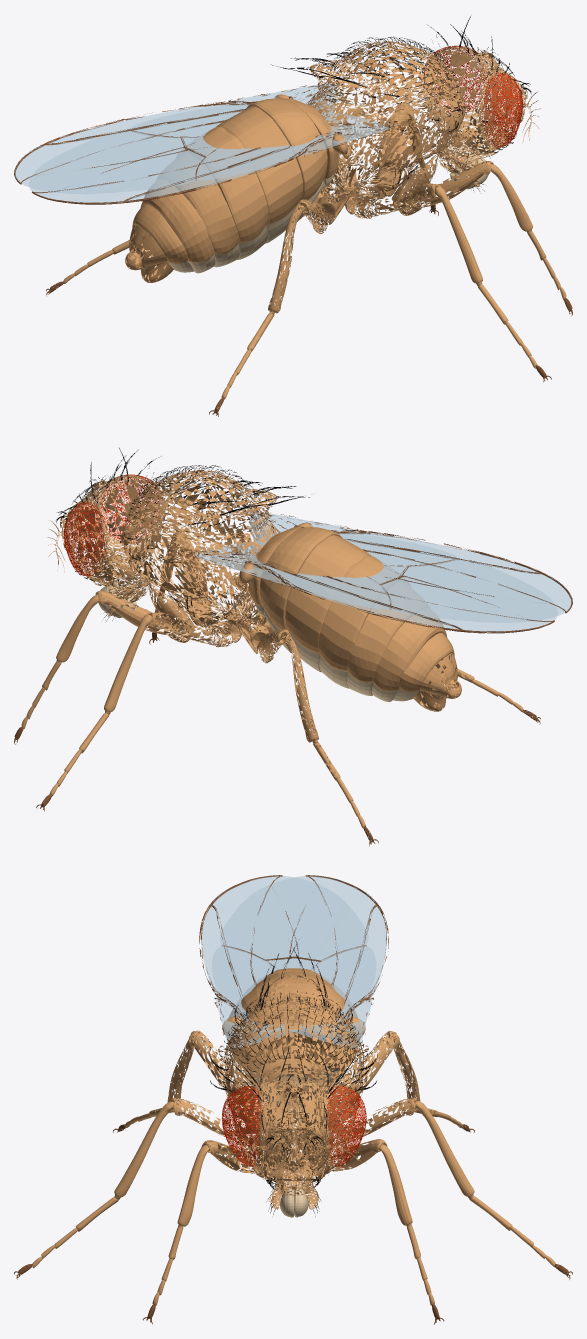
File: fly.glb
The picture shows the model from 3 angles, top to bottom: view 1: azimuth 30°, elevation 25°; view 2: azimuth 150°, elevation 25°; view 3: azimuth 270°, elevation 25°; orthographic projection. The views are drawn at different scales.
Parts seen in each view (by area): view 1: l_wing_geom1, r_wing_geom1, c_thorax_geom0, c_head_geom0, c_abdomen3_geom0, c_head_geom1, c_abdomen4_geom0, c_abdomen2_geom0, c_abdomen6_geom0, c_abdomen5_geom0, r_wing_geom0, c_thorax_geom1 (+16 smaller); view 2: r_wing_geom1, l_wing_geom1, c_thorax_geom0, c_head_geom0, c_abdomen3_geom0, c_head_geom1, c_abdomen4_geom0, c_abdomen2_geom0, c_abdomen6_geom0, c_abdomen5_geom0, l_wing_geom0, c_thorax_geom1 (+17 smaller); view 3: l_wing_geom1, r_wing_geom1, c_thorax_geom0, c_head_geom0, c_head_geom1, c_abdomen1_geom0, c_thorax_geom1, c_abdomen2_geom0, r_wing_geom0, l_wing_geom0, c_rostrum_geom0, lm_tibia_geom0 (+14 smaller).
Boxes of the visible parts, x1,y1,x2,y2 form: l_wing_geom1: [15, 83, 337, 193]; r_wing_geom1: [29, 104, 395, 203]; c_thorax_geom0: [307, 41, 465, 200]; c_head_geom0: [422, 46, 521, 154]; c_abdomen3_geom0: [216, 106, 302, 242]; c_head_geom1: [424, 45, 522, 147]; c_abdomen4_geom0: [203, 126, 268, 255]; c_abdomen2_geom0: [245, 98, 327, 220]; c_abdomen6_geom0: [140, 186, 214, 262]; c_abdomen5_geom0: [174, 179, 239, 260]; r_wing_geom0: [32, 121, 408, 204]; c_thorax_geom1: [271, 36, 467, 188]; r_wing_geom1: [248, 511, 571, 622]; l_wing_geom1: [193, 534, 557, 632]; c_thorax_geom0: [121, 470, 279, 627]; c_head_geom0: [66, 475, 165, 583]; c_abdomen3_geom0: [285, 535, 371, 671]; c_head_geom1: [64, 474, 162, 576]; c_abdomen4_geom0: [318, 555, 384, 671]; c_abdomen2_geom0: [260, 527, 342, 652]; c_abdomen6_geom0: [373, 615, 447, 691]; c_abdomen5_geom0: [346, 608, 412, 690]; l_wing_geom0: [177, 549, 554, 633]; c_thorax_geom1: [120, 465, 309, 616]; l_wing_geom1: [212, 876, 386, 1048]; r_wing_geom1: [201, 876, 375, 1049]; c_thorax_geom0: [224, 974, 364, 1145]; c_head_geom0: [232, 1080, 355, 1181]; c_head_geom1: [221, 1086, 366, 1166]; c_abdomen1_geom0: [244, 995, 343, 1078]; c_thorax_geom1: [209, 943, 377, 1118]; c_abdomen2_geom0: [227, 976, 356, 1069]; r_wing_geom0: [199, 875, 366, 1055]; l_wing_geom0: [221, 875, 388, 1055]; c_rostrum_geom0: [269, 1141, 318, 1209]; lm_tibia_geom0: [412, 1101, 474, 1196].
Size of the model in its own units: 3.78 by 1.85 by 3.5.
